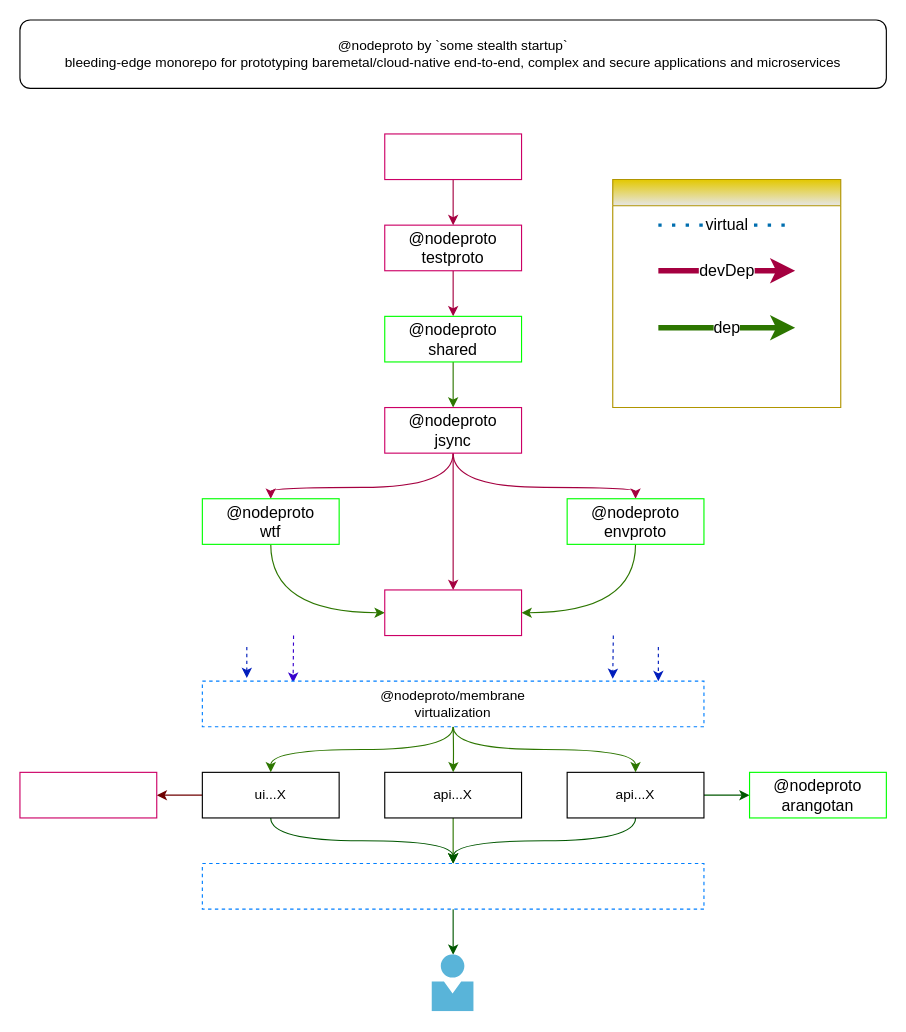
Image size: 906x1032. Some labels were removed from this diagram. The shapes that lost their labels are listed below. From the top down, each one's centre as x and y in pixels, then its label:
(x=453, y=156): @nodeproto configproto
(x=726, y=293): LEGEND
(x=453, y=612): @nodeproto buildproto
(x=88, y=794): @nodeproto bodyguard
(x=452, y=885): @nodeproto/gateway
